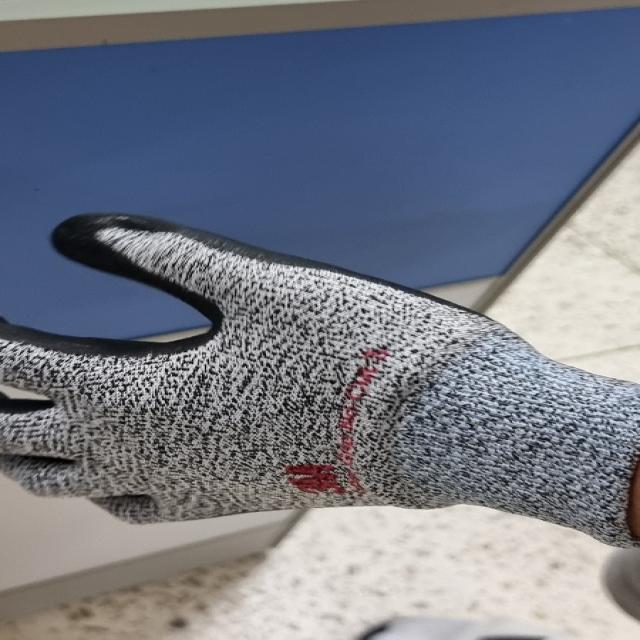Gloves: (1, 206, 640, 550)
